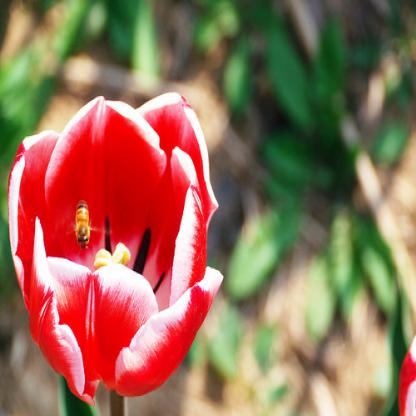TULIP: (7, 73, 231, 397)
